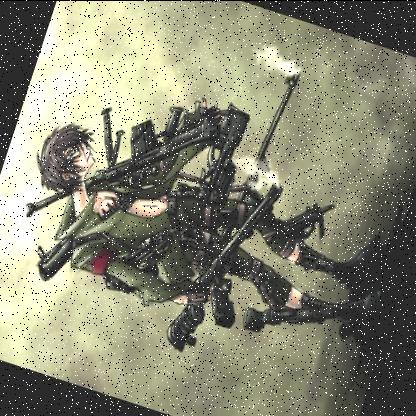rifle: (12, 73, 215, 262), (156, 165, 285, 363), (255, 187, 335, 258)
